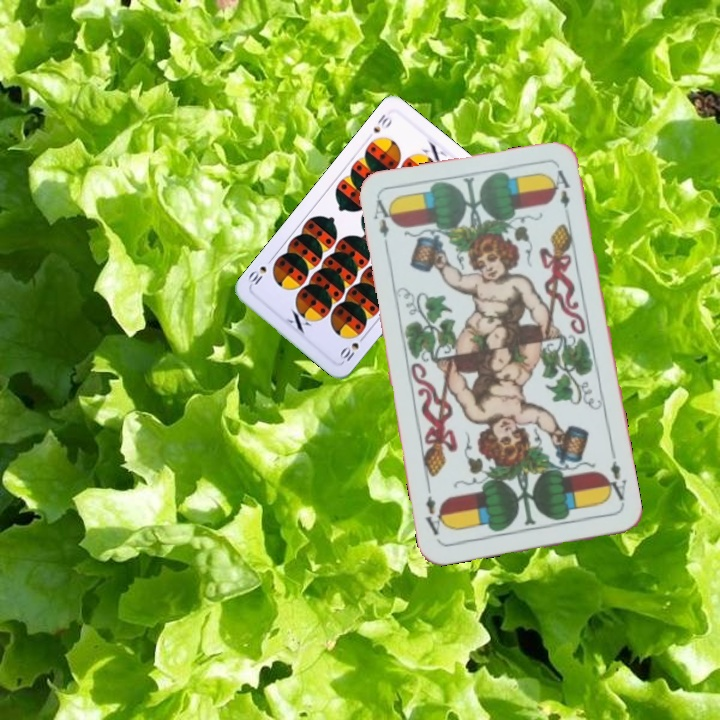EA: (601, 449, 629, 508), (369, 195, 396, 254)
S10: (336, 331, 368, 365), (369, 110, 395, 135)
